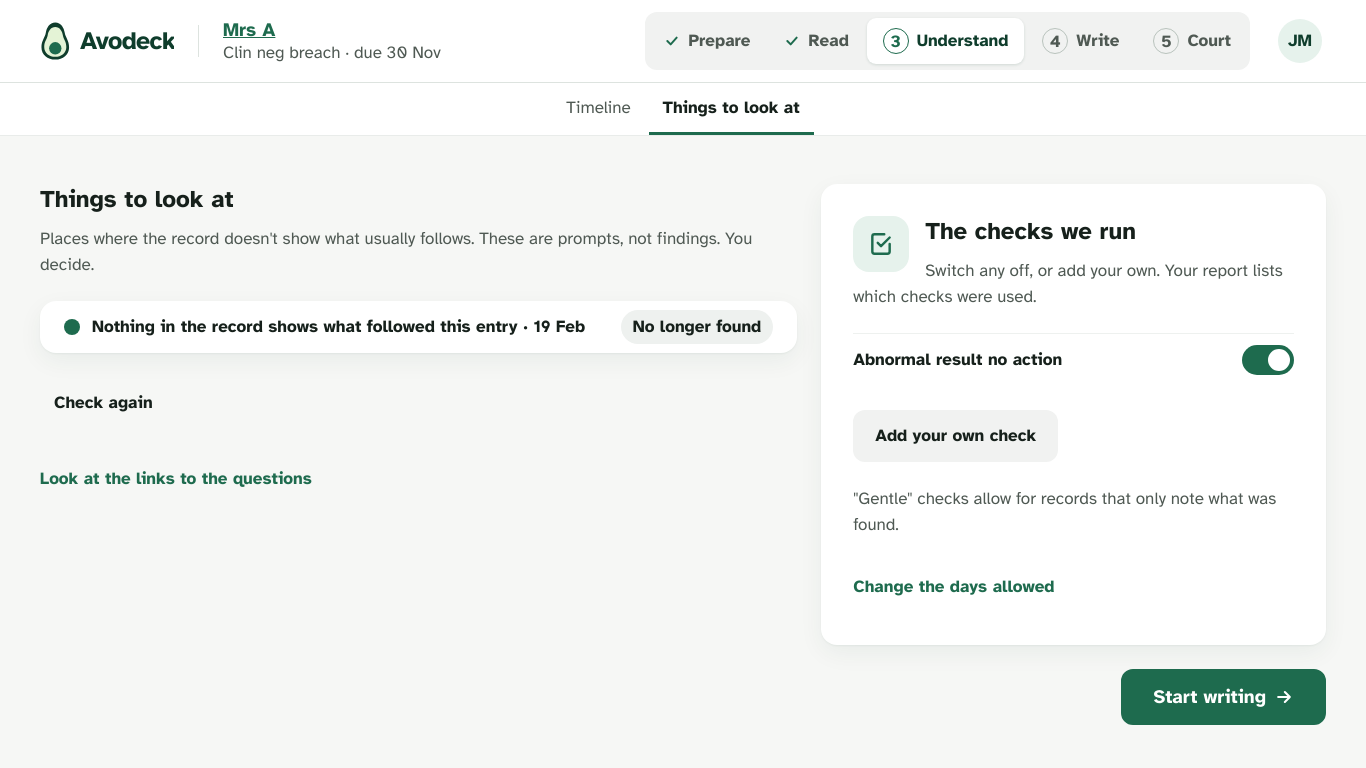
Test: a decided finding that is no longer found stays listed and says so
This screenshot has width=1366, height=768.
Expected: the text "No longer found" is shown, [621,310,773,344]
Click the text "Nothing in the record shows what followed this entry · 19 Feb": {"x": 350, "y": 327} [92,314,609,340]
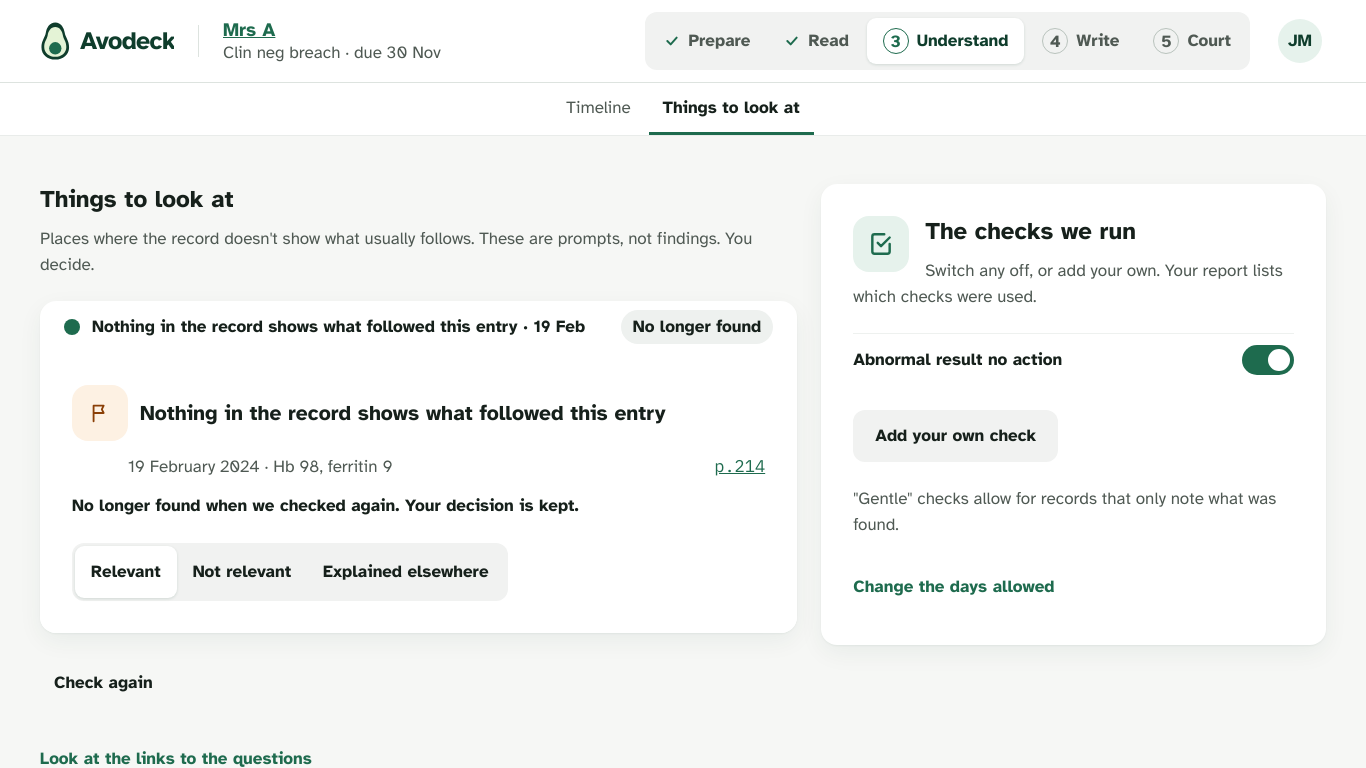
Now the text "No longer found when we checked again. Your decision is kept." is shown, box [72,495,579,516]
